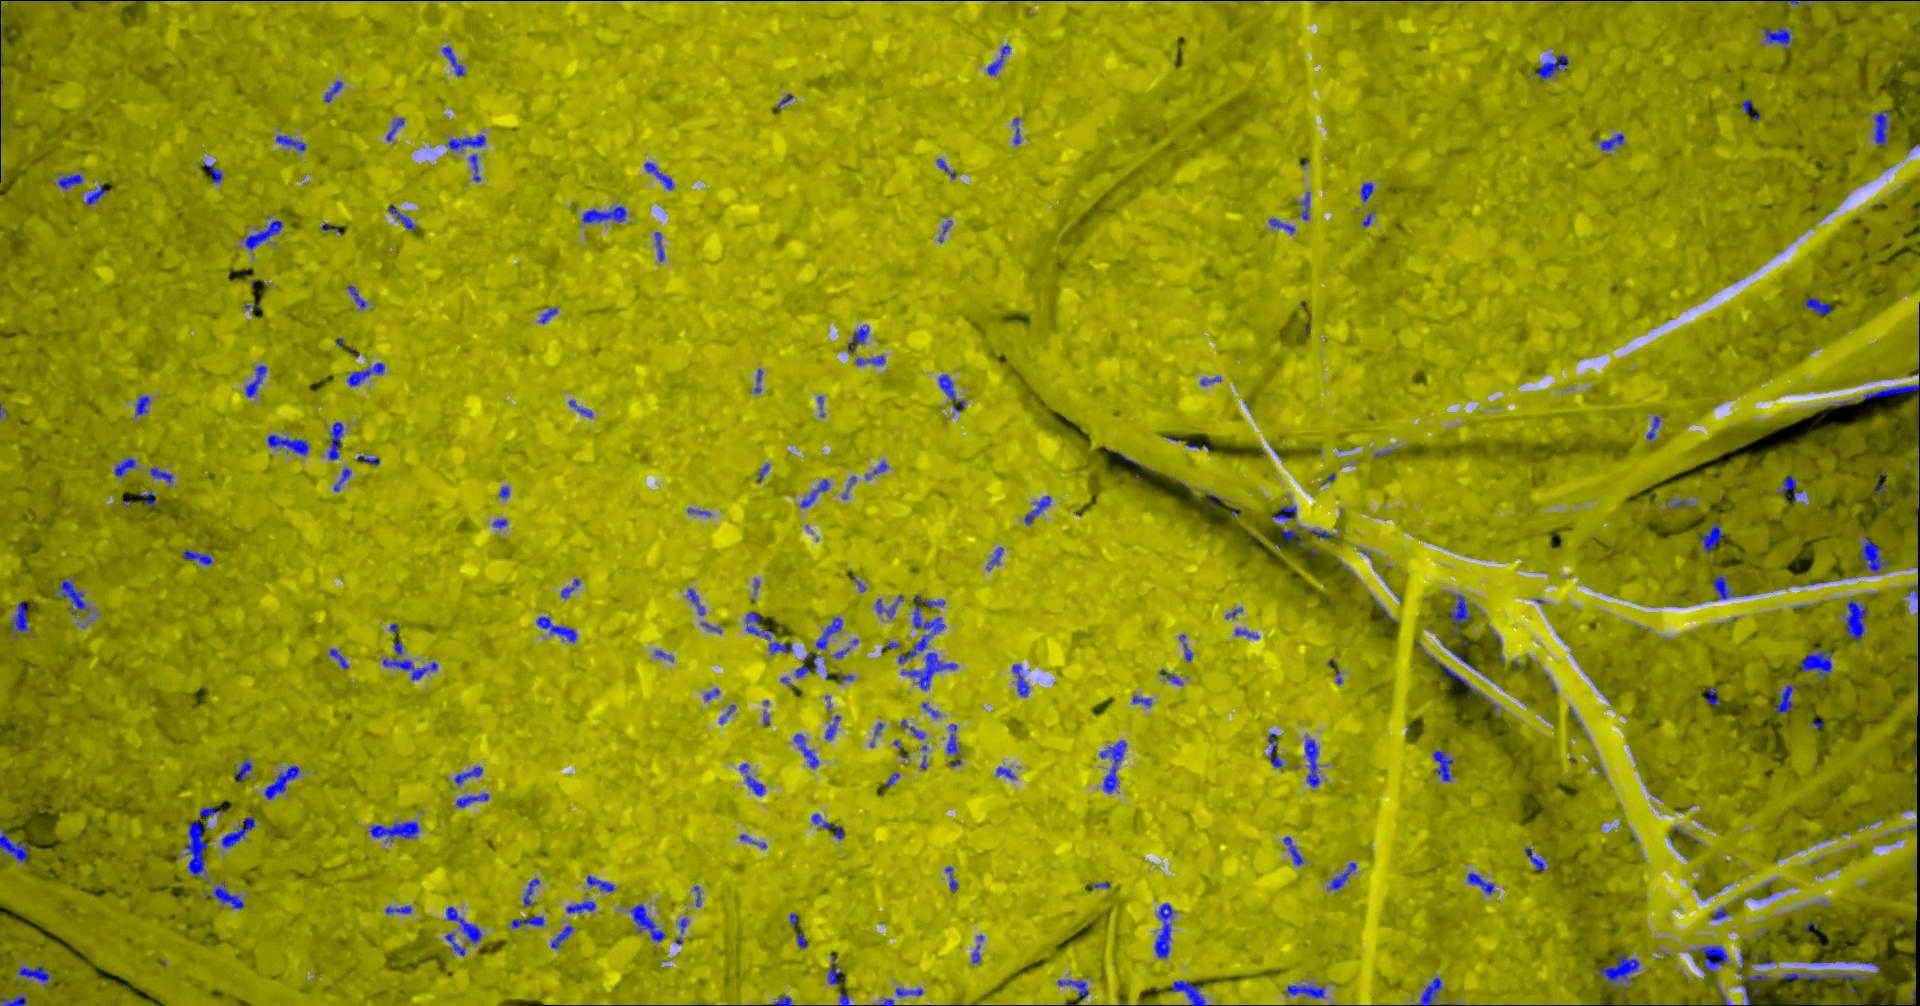ant: (897, 605, 943, 663), (184, 807, 220, 876), (1423, 650, 1476, 692), (902, 652, 956, 690), (1596, 951, 1639, 997), (745, 611, 792, 653), (1098, 741, 1126, 793), (444, 906, 481, 942), (630, 903, 665, 941), (382, 657, 437, 680), (264, 765, 298, 799), (1799, 647, 1832, 682), (244, 218, 282, 249), (220, 815, 255, 847), (58, 578, 89, 612), (1153, 903, 1172, 958), (536, 616, 577, 641), (367, 821, 418, 841), (1859, 535, 1887, 572), (1691, 945, 1728, 970), (345, 362, 383, 386), (1533, 55, 1568, 80), (1844, 600, 1867, 639), (799, 478, 829, 507), (1170, 981, 1206, 1005), (815, 616, 842, 649), (811, 813, 844, 840), (0, 829, 27, 862), (265, 434, 309, 455), (1449, 594, 1470, 635), (794, 733, 818, 768), (643, 163, 673, 191), (1863, 384, 1919, 399), (738, 763, 764, 795), (1327, 862, 1356, 890), (213, 882, 243, 909), (1304, 735, 1319, 788), (1023, 495, 1050, 525), (1782, 972, 1869, 981), (938, 373, 959, 412), (1699, 521, 1723, 553), (985, 44, 1010, 75), (582, 206, 626, 222), (1775, 683, 1799, 713), (1417, 976, 1441, 1005), (441, 46, 463, 76), (18, 965, 50, 987), (245, 365, 265, 398), (389, 206, 415, 230), (875, 594, 903, 617), (1873, 111, 1891, 146), (447, 133, 485, 150), (1710, 575, 1736, 600), (1432, 749, 1451, 781), (1763, 27, 1790, 48), (1285, 983, 1324, 998), (1283, 836, 1303, 865), (1777, 476, 1801, 500), (328, 420, 343, 459), (794, 652, 817, 677), (847, 325, 869, 352), (1467, 873, 1493, 894), (1057, 979, 1088, 997), (1277, 525, 1303, 546), (1012, 663, 1029, 696), (455, 766, 483, 785), (1267, 733, 1283, 767), (1524, 847, 1545, 871), (276, 133, 305, 151), (1804, 296, 1831, 315), (550, 925, 571, 948), (11, 602, 28, 631), (522, 876, 538, 906), (182, 549, 212, 564), (455, 793, 488, 807), (510, 915, 543, 929), (385, 117, 404, 141), (900, 719, 924, 738), (585, 875, 615, 890), (687, 588, 703, 615), (328, 648, 348, 669), (347, 285, 366, 307), (444, 934, 463, 956), (568, 399, 592, 417), (333, 467, 350, 492), (1597, 133, 1623, 150), (114, 457, 135, 478), (323, 80, 342, 102), (936, 158, 955, 179), (201, 163, 222, 182), (865, 461, 888, 479), (149, 466, 173, 483), (985, 546, 1002, 570), (824, 715, 841, 739), (57, 174, 83, 189), (85, 185, 105, 205), (1271, 506, 1297, 521), (913, 594, 943, 607), (827, 954, 839, 984), (1269, 218, 1295, 232), (1178, 634, 1192, 661), (739, 835, 766, 848), (1297, 191, 1309, 220), (560, 578, 579, 597), (946, 723, 957, 754), (235, 760, 251, 781), (1159, 669, 1182, 685), (565, 901, 596, 912), (1646, 415, 1660, 439), (943, 866, 957, 890), (469, 152, 480, 180), (855, 354, 885, 365), (135, 396, 150, 417), (971, 935, 983, 962), (654, 231, 664, 260), (1307, 528, 1335, 539), (538, 307, 556, 323), (0, 995, 25, 1005), (1705, 687, 1719, 705), (383, 904, 411, 913), (895, 987, 923, 996), (1234, 627, 1258, 638), (1360, 182, 1373, 201), (996, 766, 1015, 779), (356, 455, 378, 465), (138, 492, 155, 506), (1710, 906, 1727, 920), (771, 995, 792, 1005), (1131, 695, 1150, 706), (753, 368, 762, 392), (1012, 117, 1020, 144), (1746, 973, 1771, 981), (839, 992, 853, 1005), (703, 688, 719, 700), (796, 931, 806, 948), (491, 518, 507, 527)
